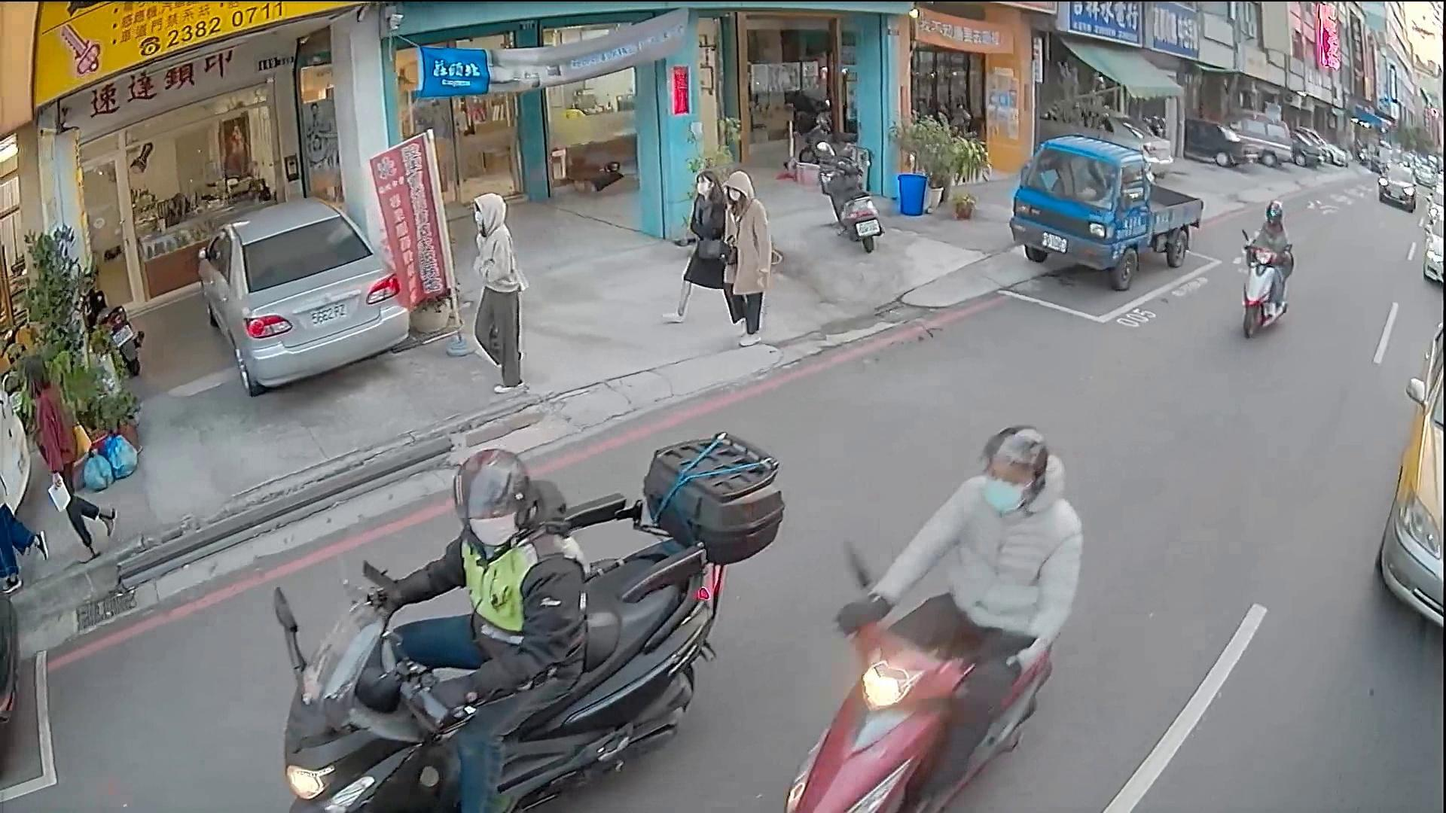person: (836, 418, 1079, 811), (339, 443, 593, 811), (15, 343, 133, 565), (664, 166, 769, 329), (461, 190, 531, 392), (709, 171, 773, 343), (1240, 196, 1293, 324)
